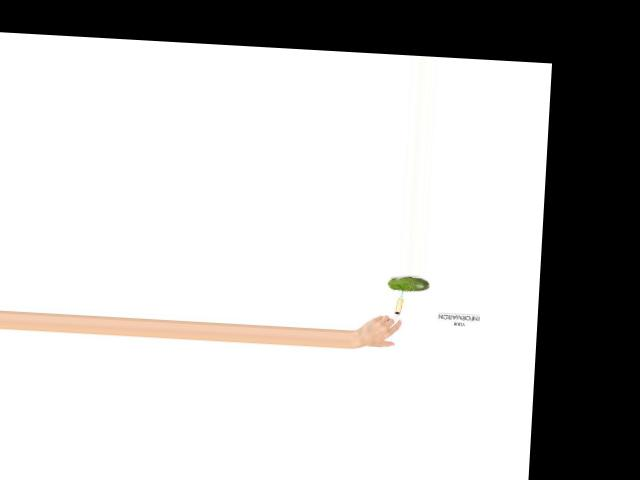cucumber: (386, 276, 429, 292)
